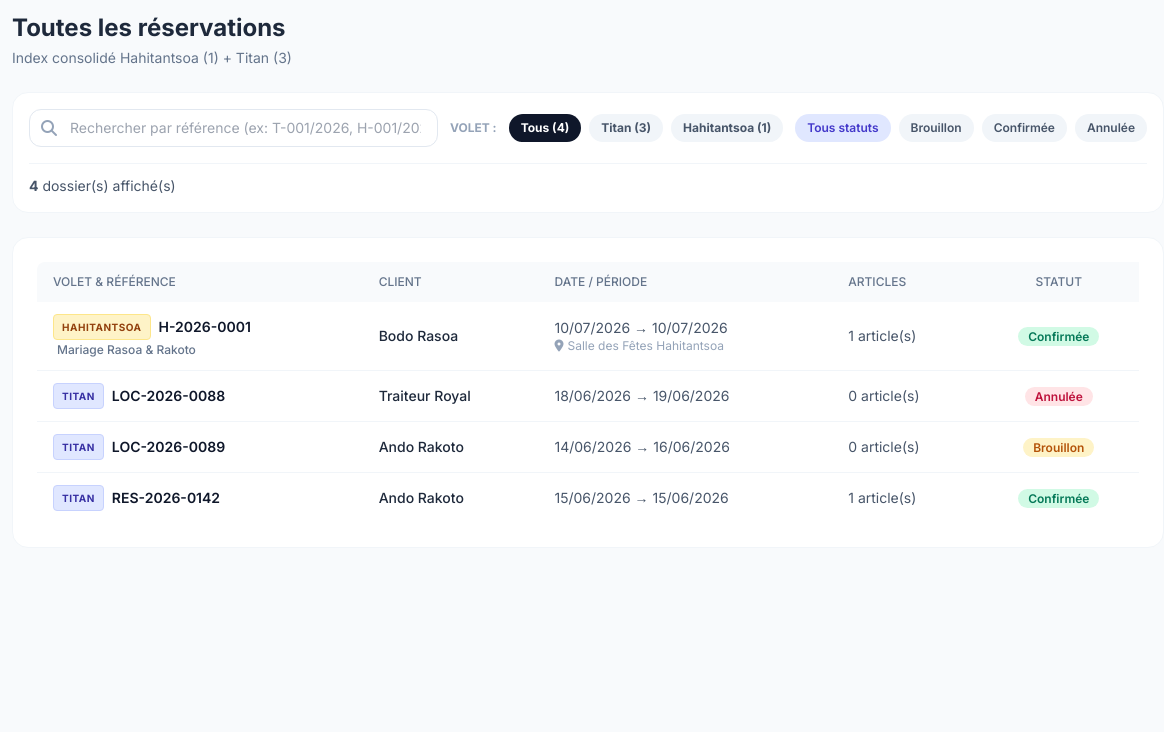
Test case: ReservationsPage › filtre par statut Brouillon
Expected: the button "LOC-2026-0089" is shown, [112,437,225,457]
Click the button "Brouillon" at (936, 128), box [898,114,974,142]
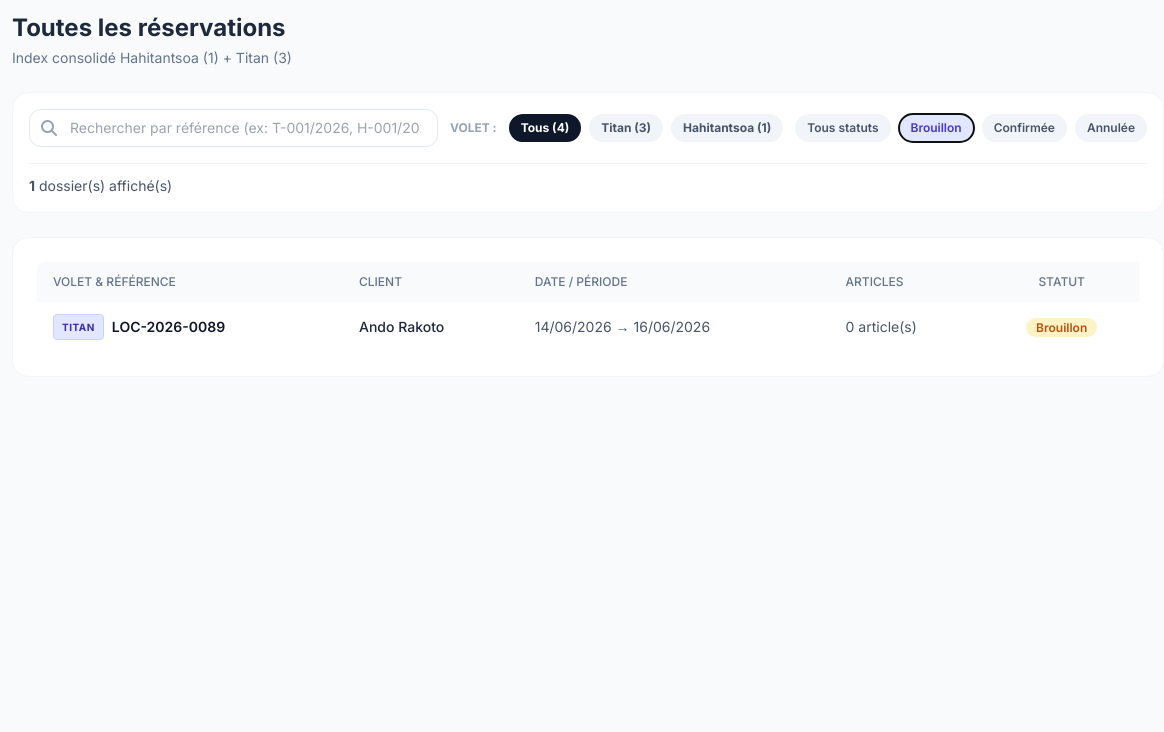
Result: the button "RES-2026-0142" is gone
Result: the button "H-2026-0001" is gone
Result: the button "LOC-2026-0088" is gone
